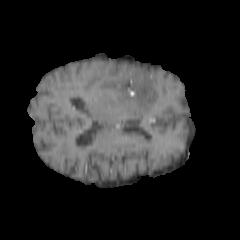glioma: (92, 68, 160, 111)
